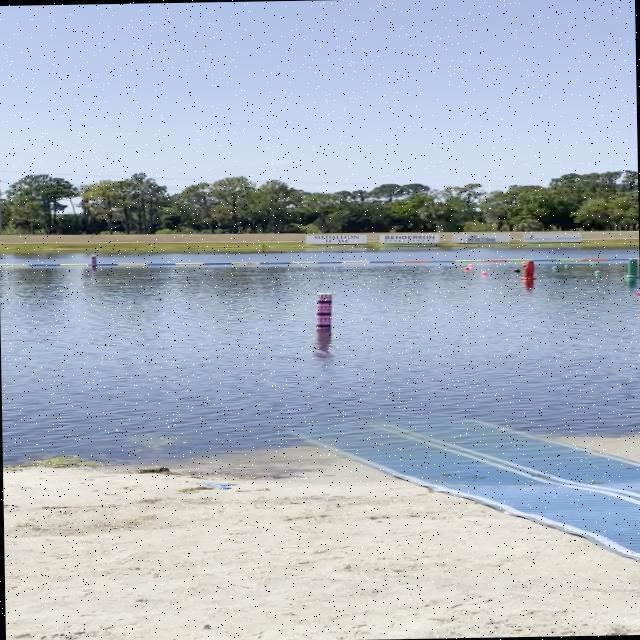buoy: (593, 269, 600, 273), (514, 268, 520, 272), (590, 260, 596, 264), (481, 270, 486, 274), (463, 266, 469, 269), (551, 266, 556, 269), (468, 264, 472, 266), (564, 264, 567, 266)
